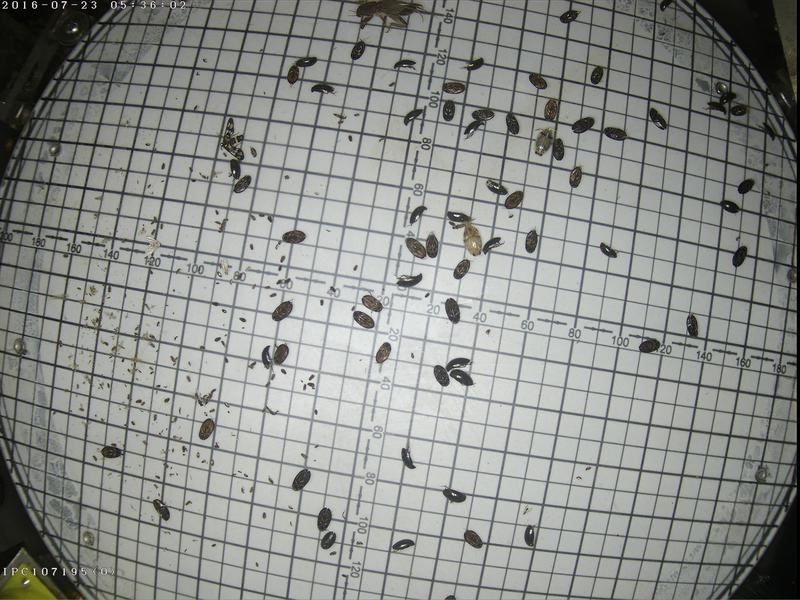Gryllotalpa orientalis: (345, 0, 438, 32)
